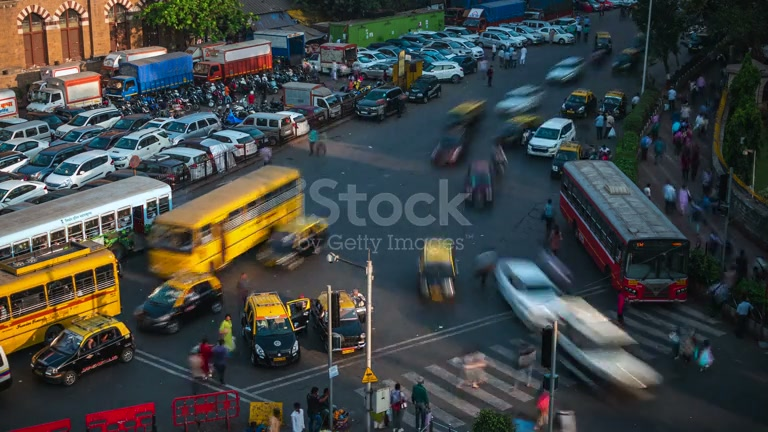bus: (557, 159, 691, 309), (144, 163, 306, 280), (1, 172, 173, 275), (0, 241, 121, 357), (102, 48, 194, 109), (24, 72, 103, 125), (189, 39, 274, 87)
car: (30, 312, 135, 387), (132, 272, 225, 335), (241, 291, 301, 368), (255, 214, 330, 269), (42, 150, 115, 191), (416, 237, 458, 304), (268, 213, 330, 256), (241, 110, 310, 144), (107, 131, 163, 170), (525, 116, 576, 158), (354, 86, 407, 121), (495, 83, 547, 118), (210, 128, 261, 161), (0, 180, 49, 214), (544, 55, 588, 86), (550, 140, 584, 178), (560, 89, 597, 118), (423, 60, 465, 85), (406, 75, 443, 103), (0, 343, 12, 390)
motorcycle: (468, 160, 494, 210)
pedestrian: (411, 378, 431, 431), (211, 338, 229, 386), (389, 383, 407, 431), (306, 386, 323, 431), (541, 197, 557, 244), (198, 337, 214, 379), (218, 313, 234, 349), (290, 402, 305, 432)
